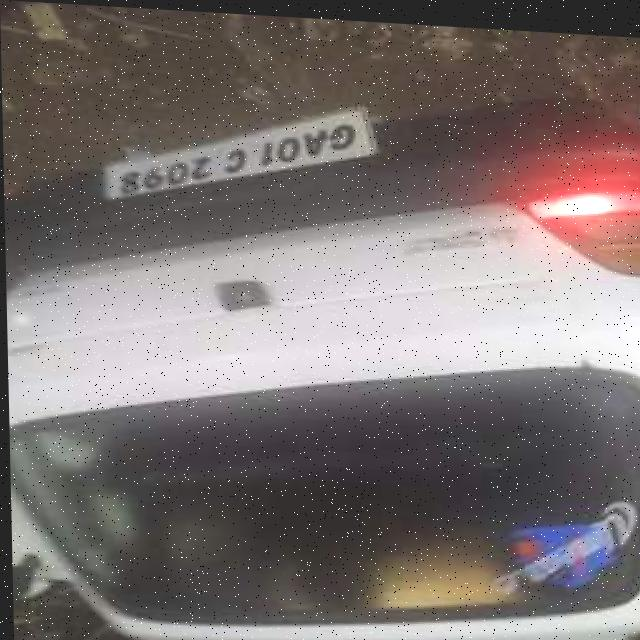plate: (103, 91, 373, 215)
